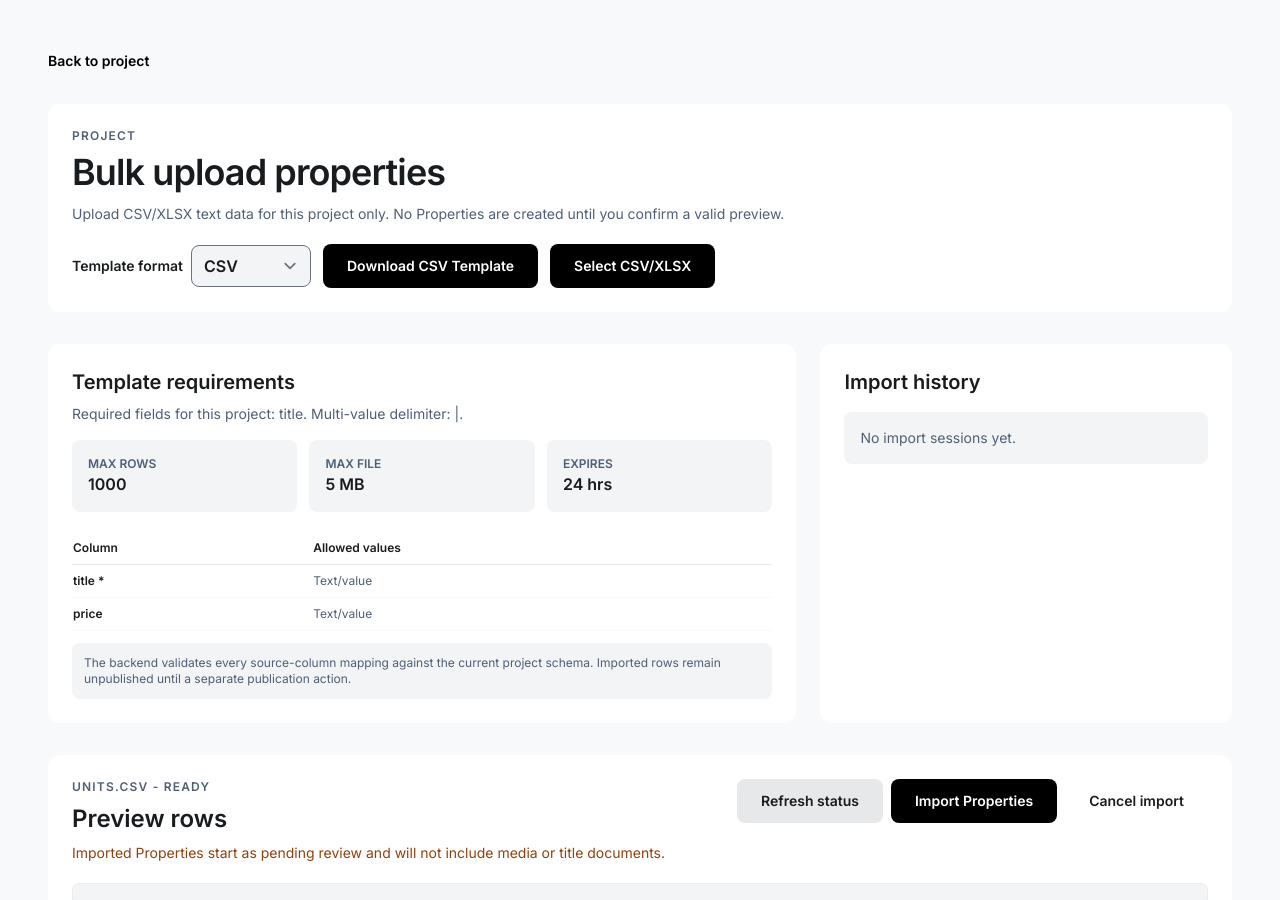
Scenario: project property import flow › requires a status check before an ambiguous import submission can be retried
Click the button "Import Properties" at (974, 801), box [891, 779, 1057, 823]
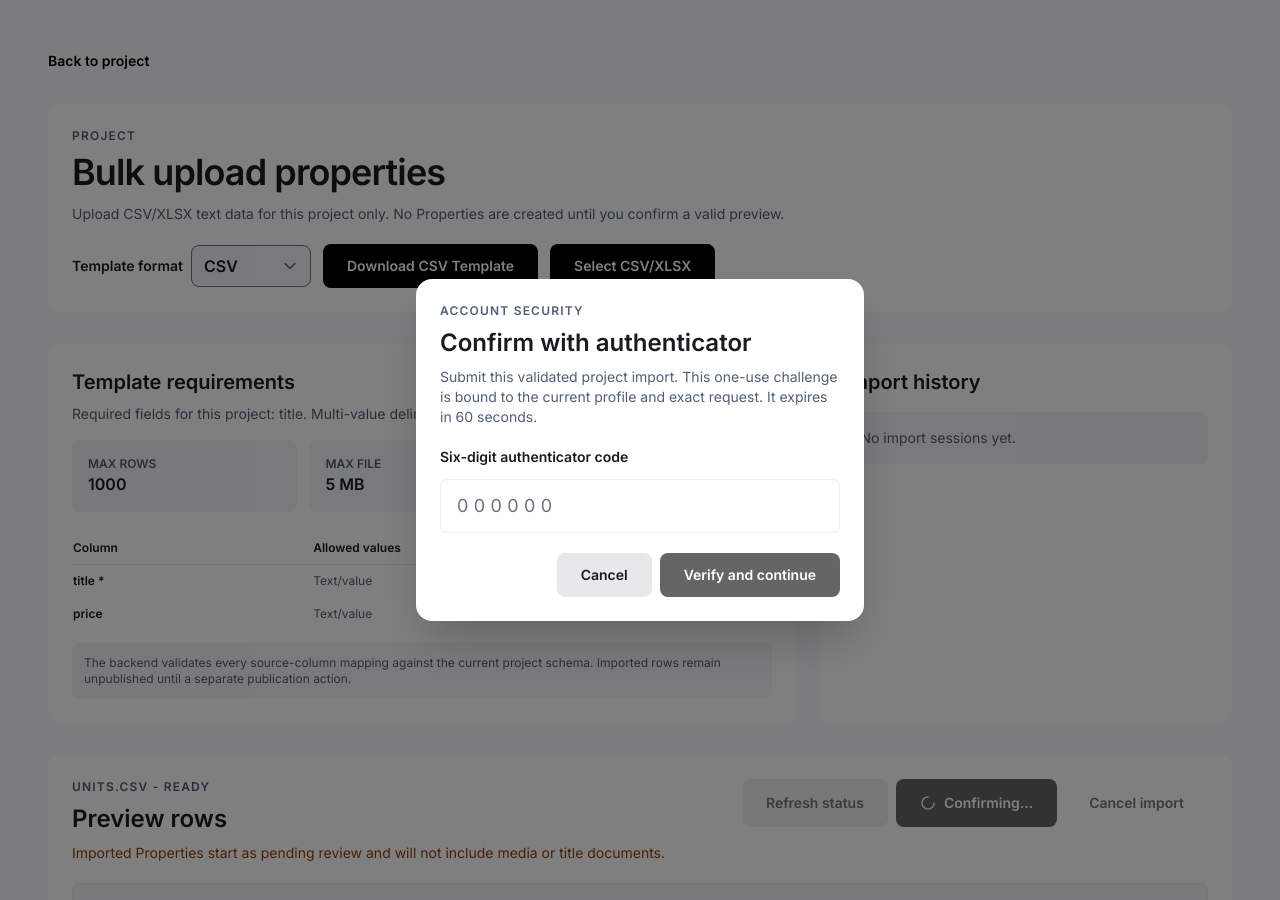
Type "123456" into the field labelled "Six-digit authenticator code" at (640, 506), box [440, 479, 840, 533]
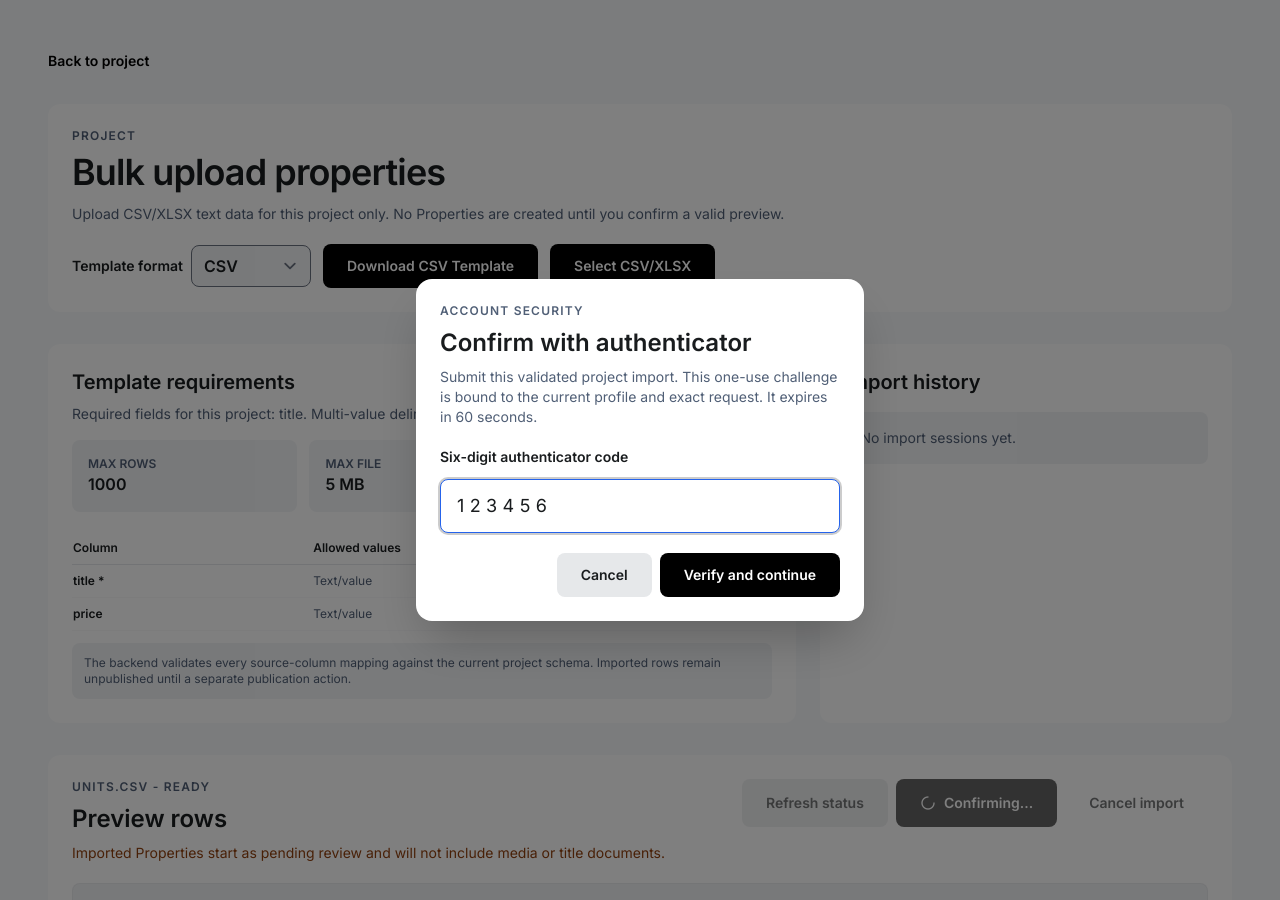
Click the button "Verify and continue" at (750, 575), box [660, 553, 840, 597]
(page scrolled)
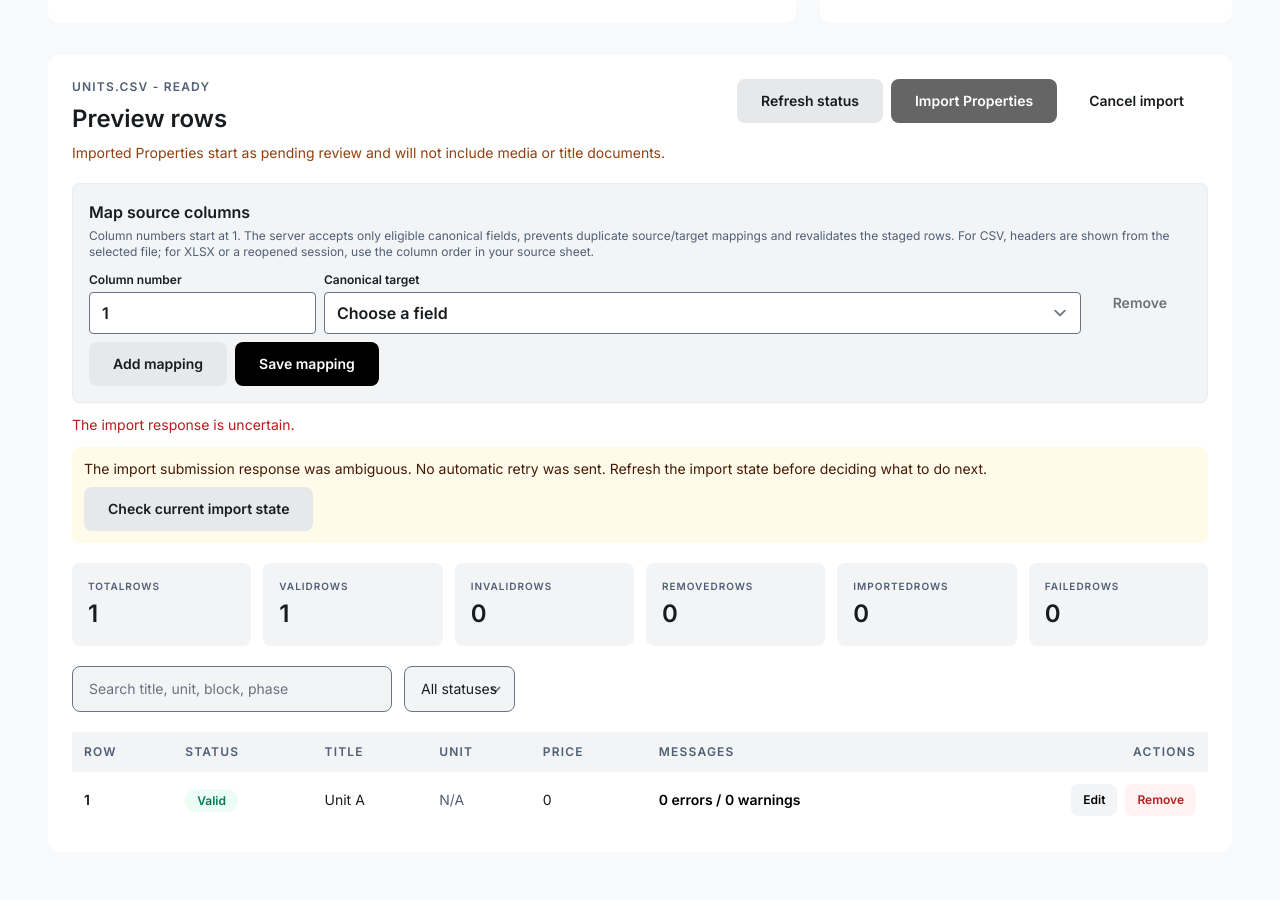
Result: the text "import submission response was ambiguous" is shown at [84, 460, 987, 477]
Click the button "Check current import state" at (199, 509), box [84, 487, 314, 531]
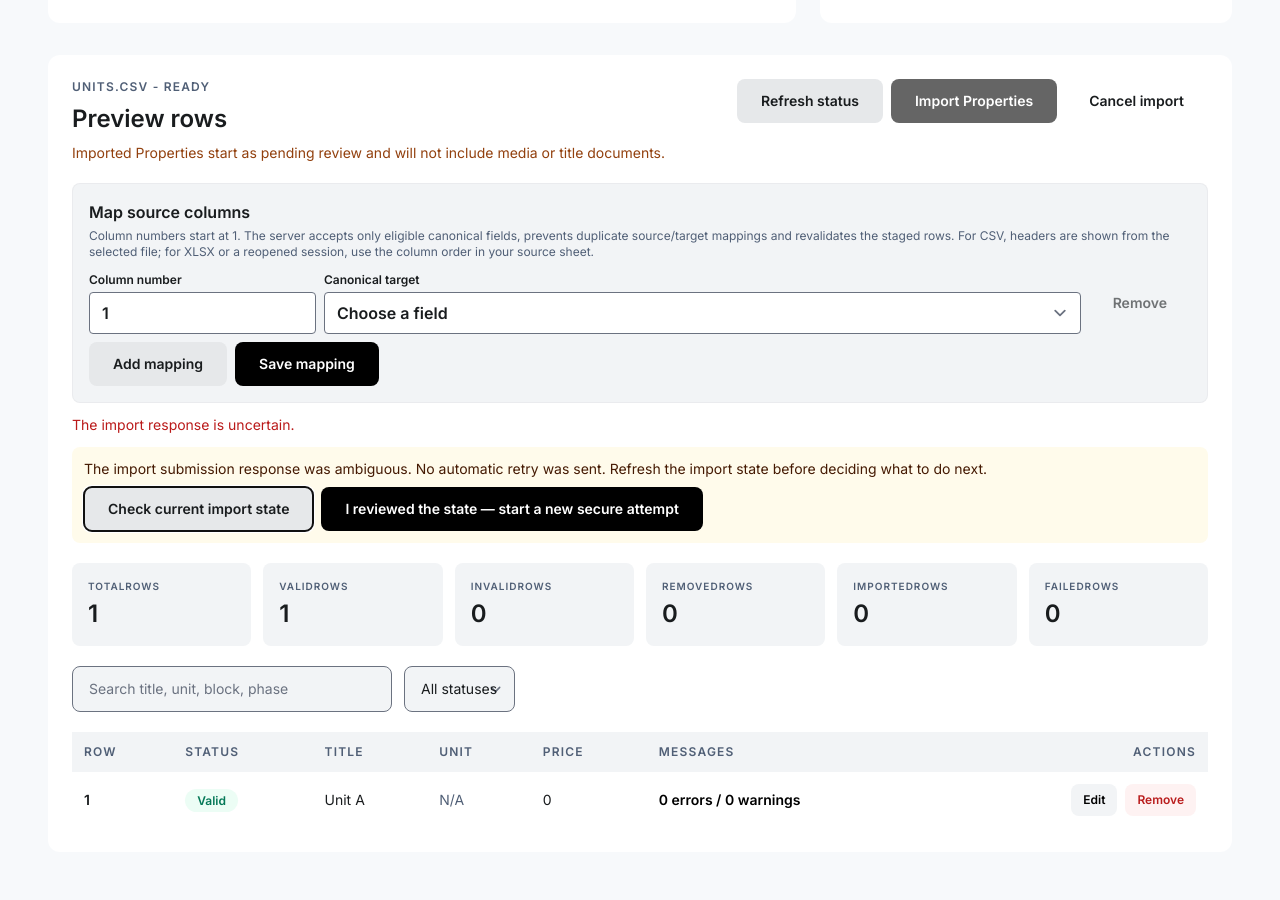
Result: the button "I reviewed the state — start a new secure attempt" is shown at [322, 487, 703, 531]
